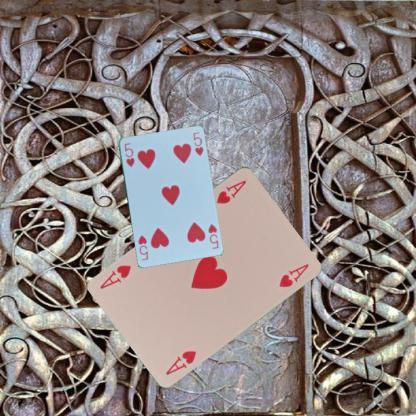5h: (205, 221, 220, 250), (122, 140, 136, 168)
Ah: (213, 176, 248, 206), (163, 347, 198, 376)
